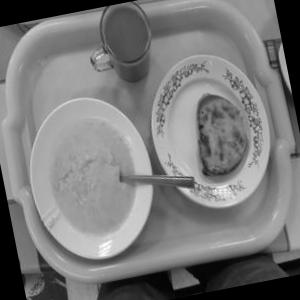cheese_sandwich: (180, 75, 262, 199)
coffee: (88, 0, 166, 96)
porridge: (16, 98, 158, 255)
